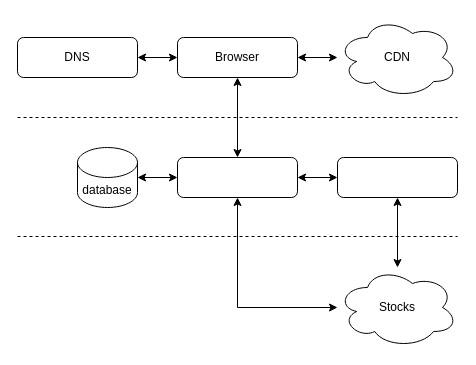
Some shapes in this 476 by 365 pixel diagram are drawn without their labels. Each missing label, with the box of its shape:
Statistical prevision: (336, 156, 458, 198)
Web app server: (176, 156, 298, 198)
